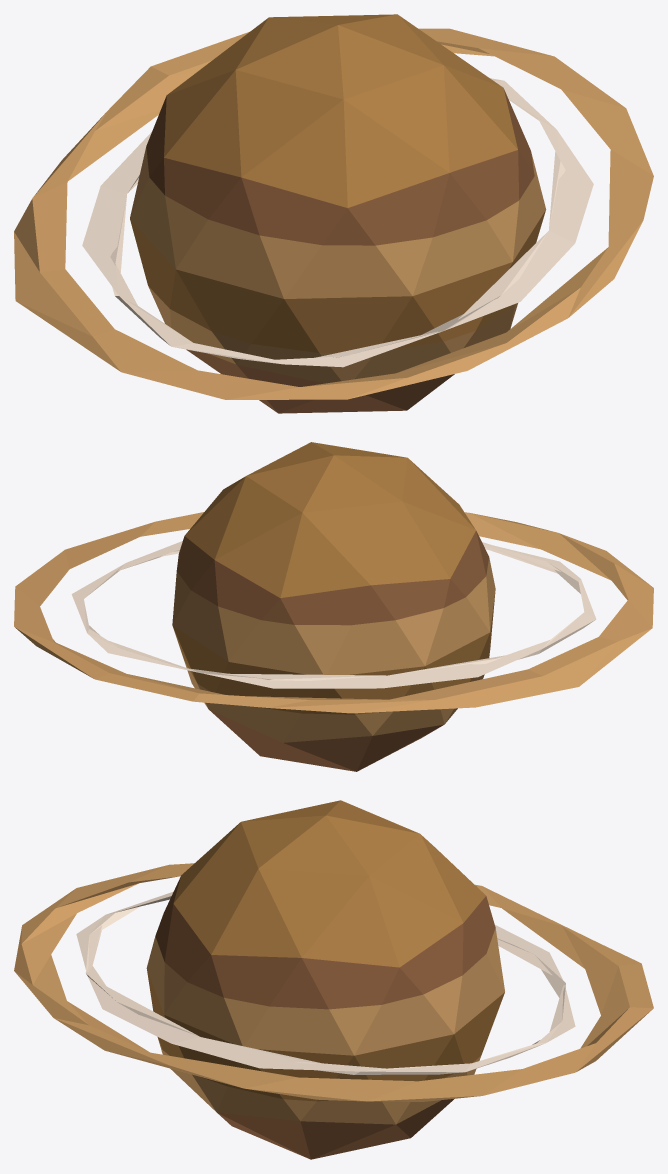
File: planet-ring.glb
3 renders of one model, top to bottom at view 1: azimuth 30°, elevation 25°; view 2: azimuth 150°, elevation 25°; view 3: azimuth 270°, elevation 25°, orthographic. The views are drawn at different scales.
Visible parts, largest first — view 1: planet-ring; view 2: planet-ring; view 3: planet-ring.
Boxes of the visible parts, x1=… form: planet-ring: x1=14, y1=14, x2=653, y2=413; planet-ring: x1=14, y1=442, x2=653, y2=771; planet-ring: x1=14, y1=800, x2=653, y2=1159.
Size of the model in its own units: 17.17 by 9.91 by 17.48.
Materials: 1 (1 with a texture image).
